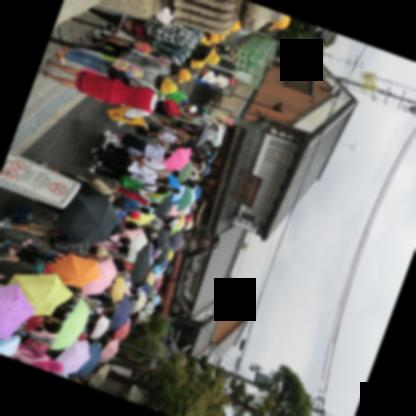backpack: (143, 13, 197, 49), (48, 235, 88, 254), (117, 174, 156, 193), (107, 57, 143, 77)
handbag: (159, 117, 182, 131)
